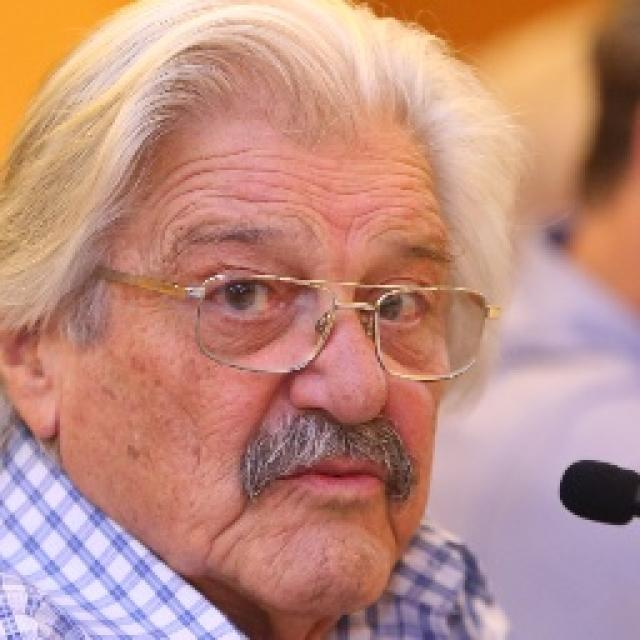earlobe: (0, 286, 63, 442)
